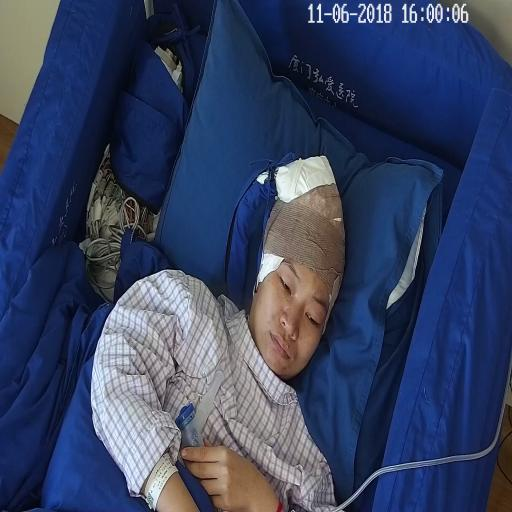Netural: (248, 148, 349, 386)
